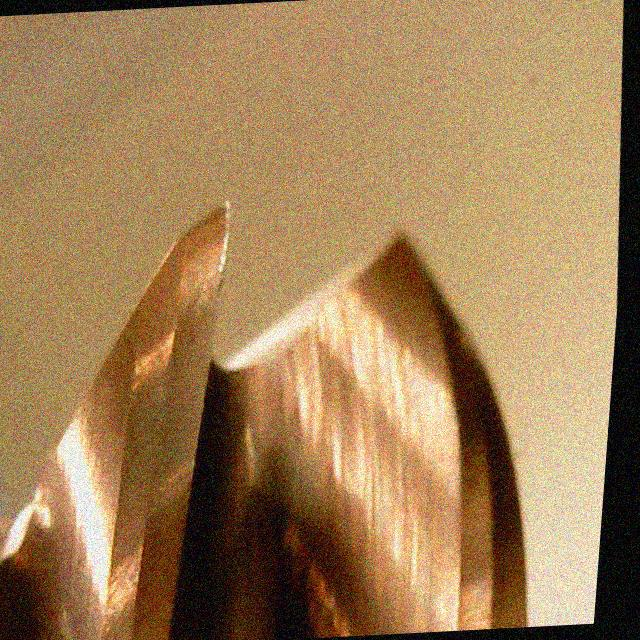Tool-wear-class-0: (116, 197, 254, 524)
